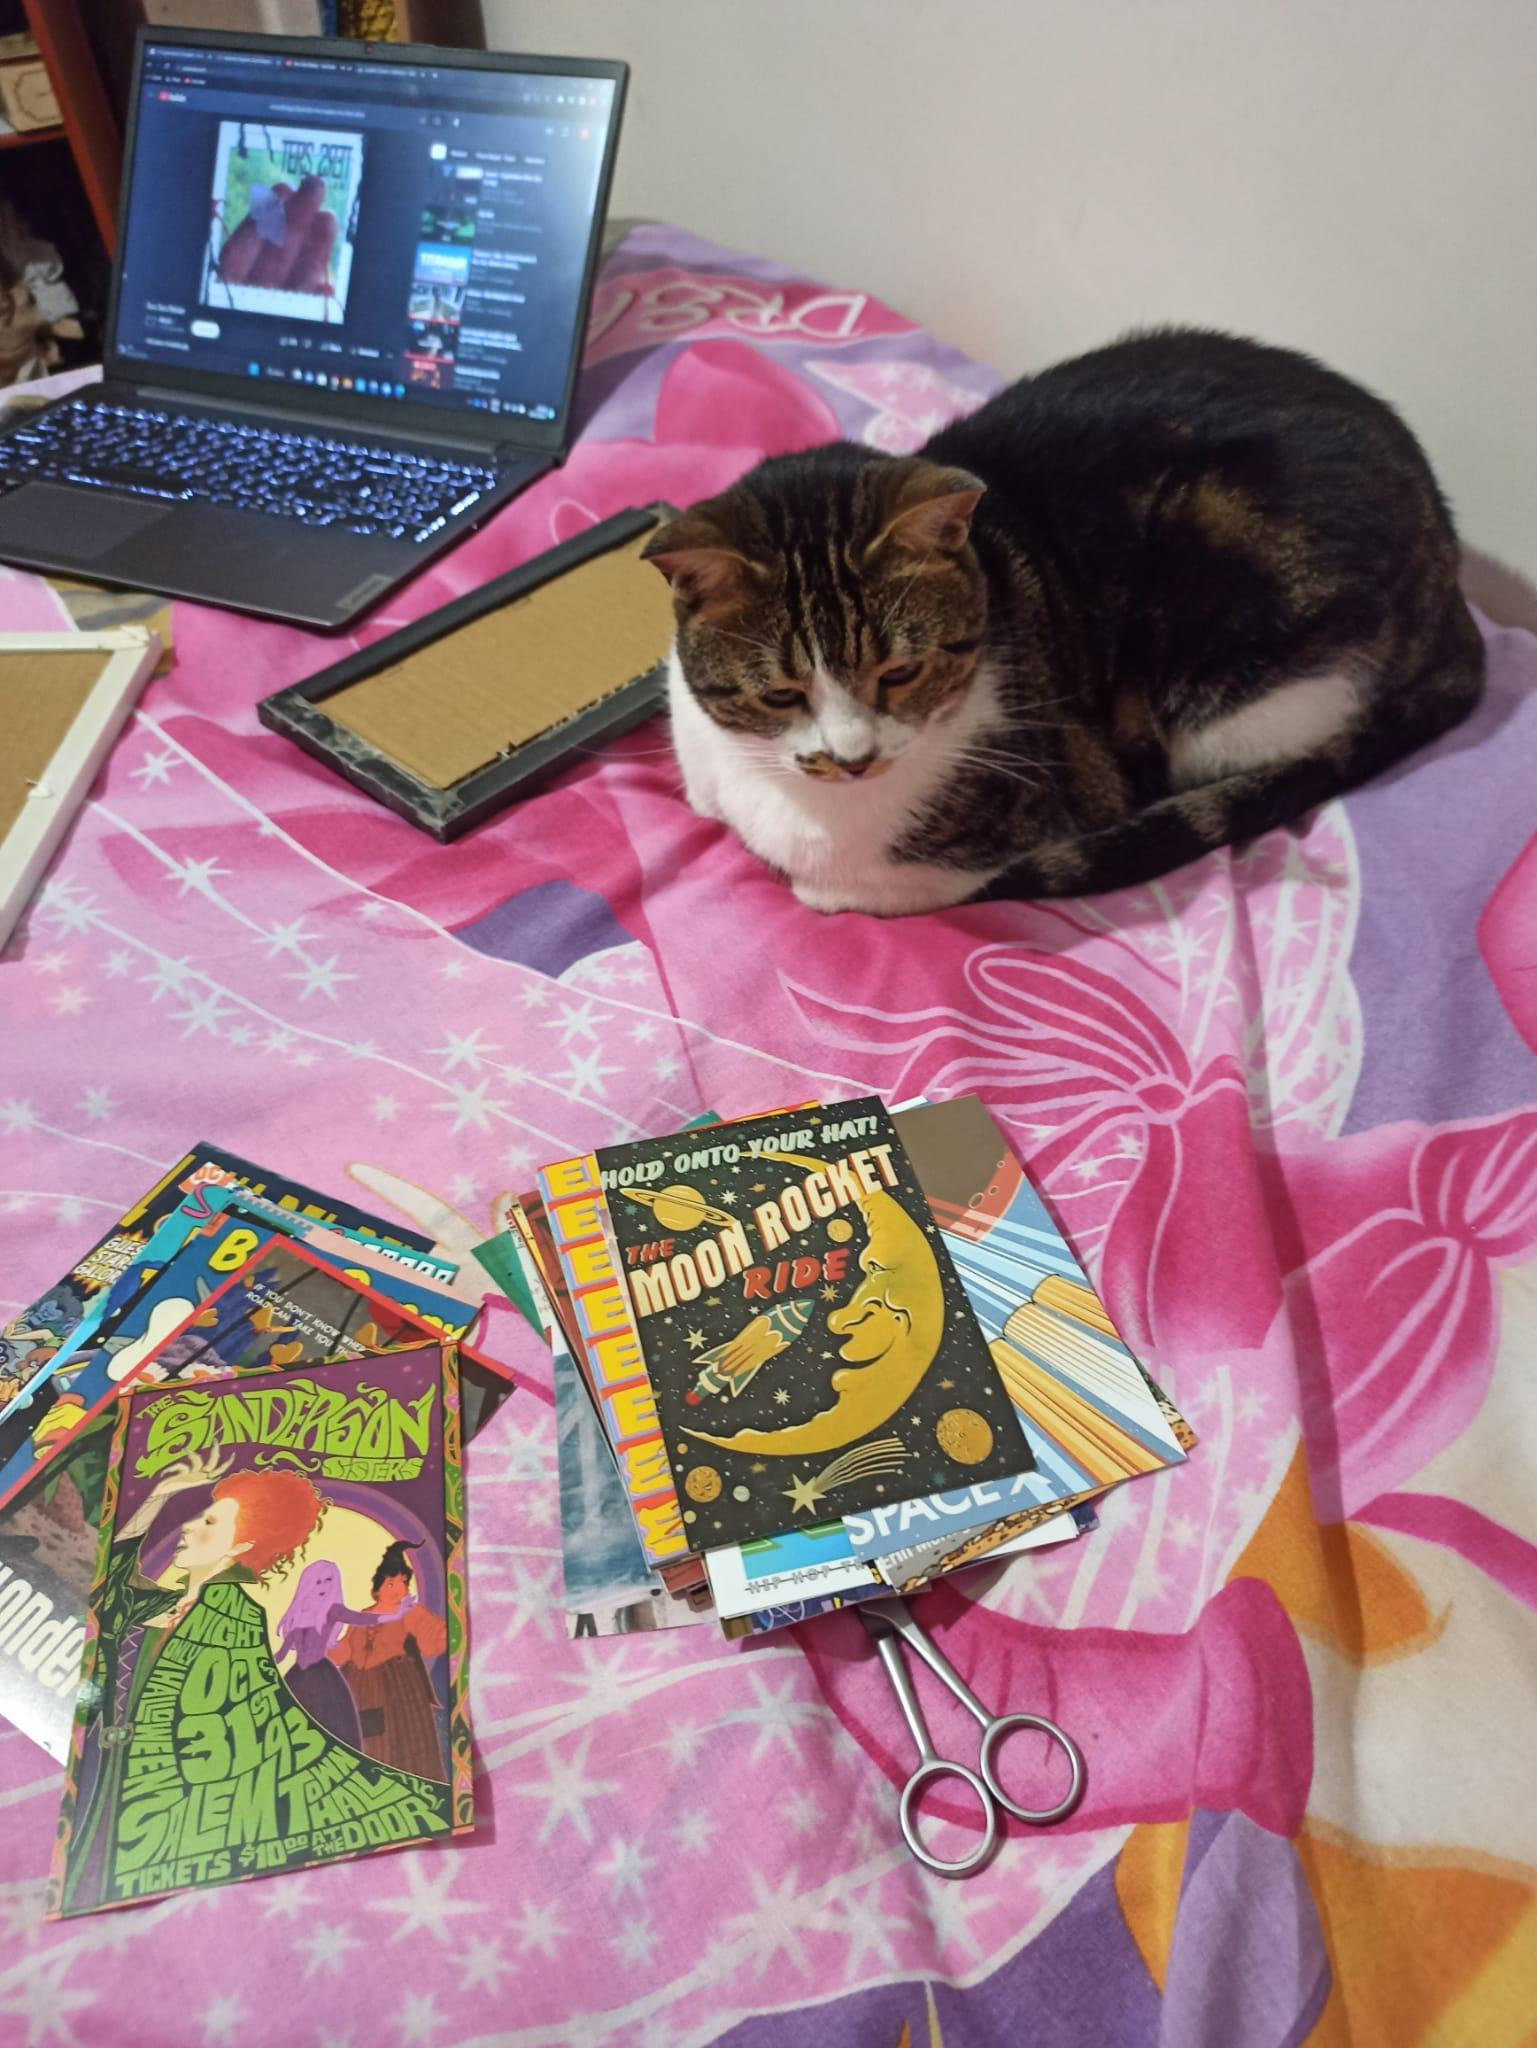kedo: (633, 328, 1485, 920)
